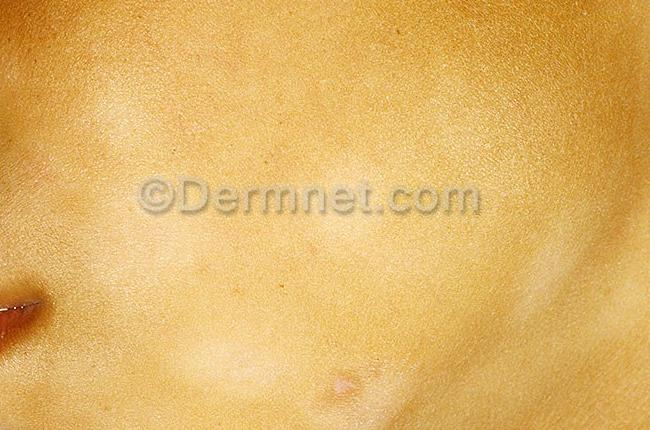edema 1: (325, 368, 361, 399)
